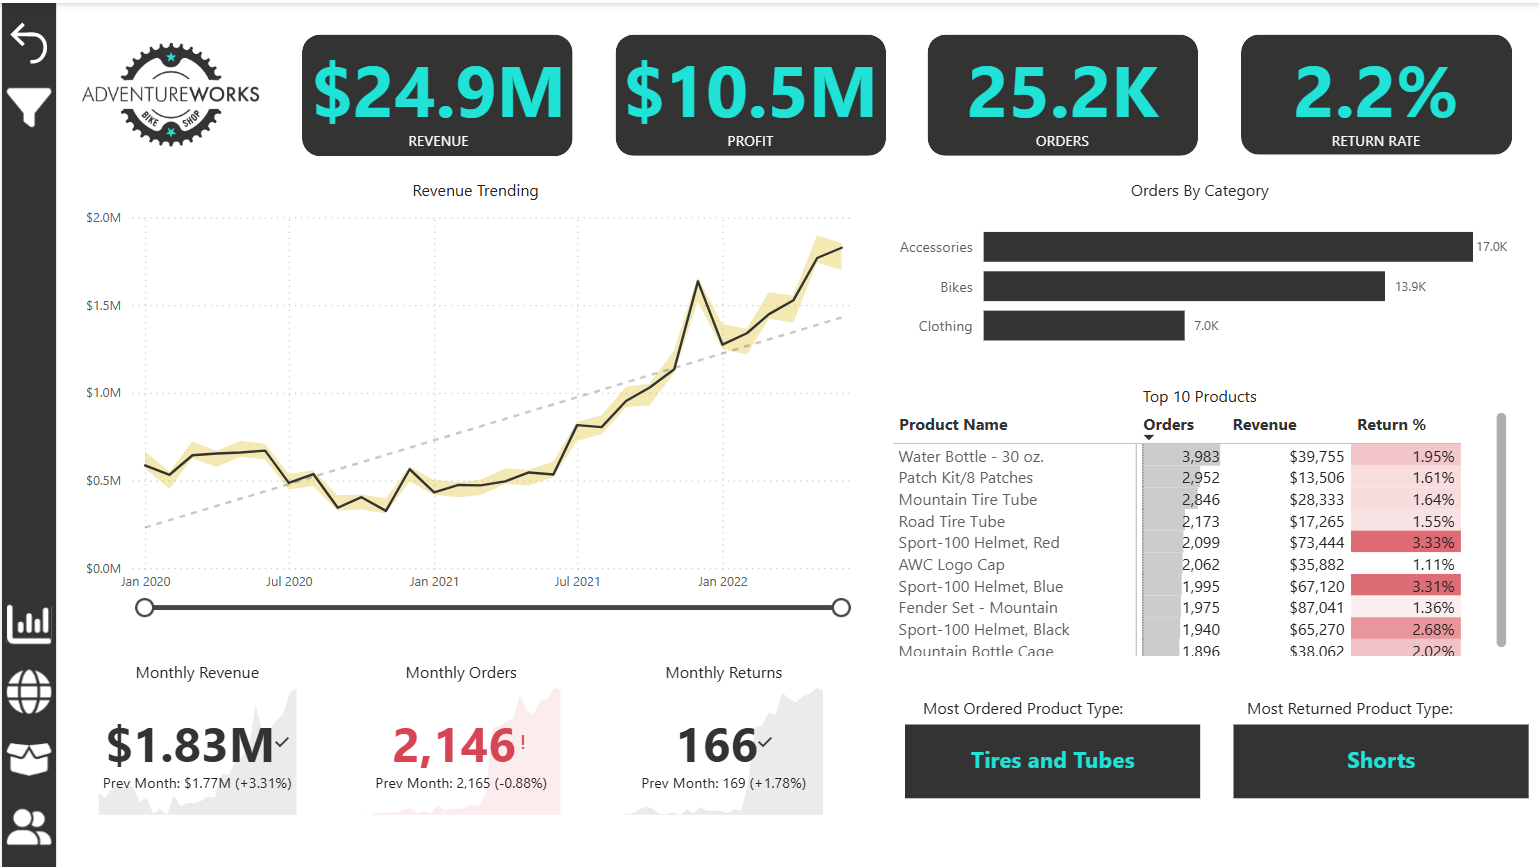

What the dashboard file says about the page in this screenshot:
{"tool":"powerbi","page":{"name":"Exec Dasboard","canvas":[1280,720],"ordinal":0},"visuals":[{"type":"card","fields":{"Values":["Measure Table.Total Revenue"]},"box":[236.2,6.2,253.8,140],"z":0,"group":"g2"},{"type":"image","title":"AW Logo","box":[45,16.2,191.2,120],"z":0},{"type":"group","id":"g1","title":"KPI Backgrounds","box":[250,26,1005.6,101.2],"z":0,"group":"g3"},{"type":"shape","box":[250,26,225,101.2],"z":0,"group":"g1"},{"type":"actionButton","box":[0,490,45,52.5],"z":0,"group":"g4"},{"type":"shape","title":"Left Nav Background","box":[0,0,45,720],"z":1000},{"type":"group","id":"g2","title":"KPI Values","box":[236.2,6.2,1032.5,140],"z":1000,"group":"g3"},{"type":"card","fields":{"Values":["Measure Table.Total Profit"]},"box":[495.8,6.2,253.8,140],"z":1000,"group":"g2"},{"type":"shape","box":[1030,26,225.6,100],"z":1000,"group":"g1"},{"type":"actionButton","box":[0,546.2,45,52.5],"z":1000,"group":"g4"},{"type":"group","id":"g3","title":"KPIs","box":[236.2,6.2,1032.5,140],"z":2000},{"type":"card","fields":{"Values":["Measure Table.Total Orders"]},"box":[755.4,6.2,253.8,140],"z":2000,"group":"g2"},{"type":"shape","box":[510,26,225,101],"z":2000,"group":"g1"},{"type":"actionButton","box":[0,602.5,45,52.5],"z":2000,"group":"g4"},{"type":"card","fields":{"Values":["Measure Table.Return Rate"]},"box":[1015,6.2,253.8,140],"z":3000,"group":"g2"},{"type":"shape","box":[770,26,225,101],"z":3000,"group":"g1"},{"type":"kpi","title":"Monthly Revenue","fields":{"Indicator":["Measure Table.REVENUE"],"TrendLine":["Calendar Lookup.Date Hierarchy.Start of Month"],"Goal":["Measure Table.Previous Month Revenue"]},"box":[75,546.2,175,133.8],"z":3000},{"type":"actionButton","box":[0,658.8,45,52.5],"z":3000,"group":"g4"},{"type":"lineChart","title":"Revenue Trending","fields":{"Y":["Measure Table.REVENUE"],"Category":["Calendar Lookup.Date Hierarchy.Start of Month"]},"box":[63.8,146.2,660,367.5],"z":4000},{"type":"kpi","title":"Monthly Orders","fields":{"TrendLine":["Calendar Lookup.Date Hierarchy.Start of Month"],"Indicator":["Measure Table.Total Orders"],"Goal":["Measure Table.Previous Month Orders"]},"box":[293.8,546.2,175,133.8],"z":5000},{"type":"kpi","title":"Monthly Returns","fields":{"TrendLine":["Calendar Lookup.Date Hierarchy.Start of Month"],"Indicator":["Measure Table.Total Returns"],"Goal":["Measure Table.Previous Month Returns"]},"box":[512.5,546.2,175,133.8],"z":6000},{"type":"clusteredBarChart","title":"Orders By Category","fields":{"Category":["Product Categories Lookup.CategoryName"],"Y":["Measure Table.Total Orders"]},"box":[735,146.2,520,153.8],"z":7000},{"type":"pivotTable","title":"Top 10 Products","fields":{"Rows":["Product Lookup.ProductName"],"Values":["Measure Table.Total Orders","Measure Table.REVENUE","Measure Table.Return Rate"]},"box":[735,316.2,520,230],"z":8000},{"type":"card","fields":{"Values":["Min(Product Subcategories Lookup.SubcategoryName)"]},"box":[750,600,245,61.2],"z":9000},{"type":"textbox","box":[760,571.2,191.2,28.8],"z":10000},{"type":"card","fields":{"Values":["Min(Product Subcategories Lookup.SubcategoryName)"]},"box":[1023.8,600,245,61.2],"z":11000},{"type":"textbox","box":[1030,571.2,183.8,28.8],"z":12000},{"type":"actionButton","box":[0,0,45,66.2],"z":13000},{"type":"group","id":"g4","title":"Navigation Buttons","box":[0,490,45,221.2],"z":14000},{"type":"actionButton","box":[0,61.2,45,51.2],"z":15000}]}

Visuals, with their boxes on the page's 1280x720 design canvas (x1, y1, x2, y2). These are canvas units, not pixel positions in the 1539x867 screenshot, which may show the page scaled, cropped or inside an application window:
card - Measure Table.Total Revenue: pyautogui.locateOnScreen(236, 6, 490, 146)
"AW Logo" image: pyautogui.locateOnScreen(45, 16, 236, 136)
"KPI Backgrounds" group: pyautogui.locateOnScreen(250, 26, 1256, 127)
shape: pyautogui.locateOnScreen(250, 26, 475, 127)
actionButton: pyautogui.locateOnScreen(0, 490, 45, 542)
"Left Nav Background" shape: pyautogui.locateOnScreen(0, 0, 45, 720)
"KPI Values" group: pyautogui.locateOnScreen(236, 6, 1269, 146)
card - Measure Table.Total Profit: pyautogui.locateOnScreen(496, 6, 750, 146)
shape: pyautogui.locateOnScreen(1030, 26, 1256, 126)
actionButton: pyautogui.locateOnScreen(0, 546, 45, 599)
"KPIs" group: pyautogui.locateOnScreen(236, 6, 1269, 146)
card - Measure Table.Total Orders: pyautogui.locateOnScreen(755, 6, 1009, 146)
shape: pyautogui.locateOnScreen(510, 26, 735, 127)
actionButton: pyautogui.locateOnScreen(0, 602, 45, 655)
card - Measure Table.Return Rate: pyautogui.locateOnScreen(1015, 6, 1269, 146)
shape: pyautogui.locateOnScreen(770, 26, 995, 127)
"Monthly Revenue" kpi: pyautogui.locateOnScreen(75, 546, 250, 680)
actionButton: pyautogui.locateOnScreen(0, 659, 45, 711)
"Revenue Trending" lineChart: pyautogui.locateOnScreen(64, 146, 724, 514)
"Monthly Orders" kpi: pyautogui.locateOnScreen(294, 546, 469, 680)
"Monthly Returns" kpi: pyautogui.locateOnScreen(512, 546, 688, 680)
"Orders By Category" clusteredBarChart: pyautogui.locateOnScreen(735, 146, 1255, 300)
"Top 10 Products" pivotTable: pyautogui.locateOnScreen(735, 316, 1255, 546)
card - Min(Product Subcategories Lookup.SubcategoryName): pyautogui.locateOnScreen(750, 600, 995, 661)
textbox: pyautogui.locateOnScreen(760, 571, 951, 600)
card - Min(Product Subcategories Lookup.SubcategoryName): pyautogui.locateOnScreen(1024, 600, 1269, 661)
textbox: pyautogui.locateOnScreen(1030, 571, 1214, 600)
actionButton: pyautogui.locateOnScreen(0, 0, 45, 66)
"Navigation Buttons" group: pyautogui.locateOnScreen(0, 490, 45, 711)
actionButton: pyautogui.locateOnScreen(0, 61, 45, 112)
